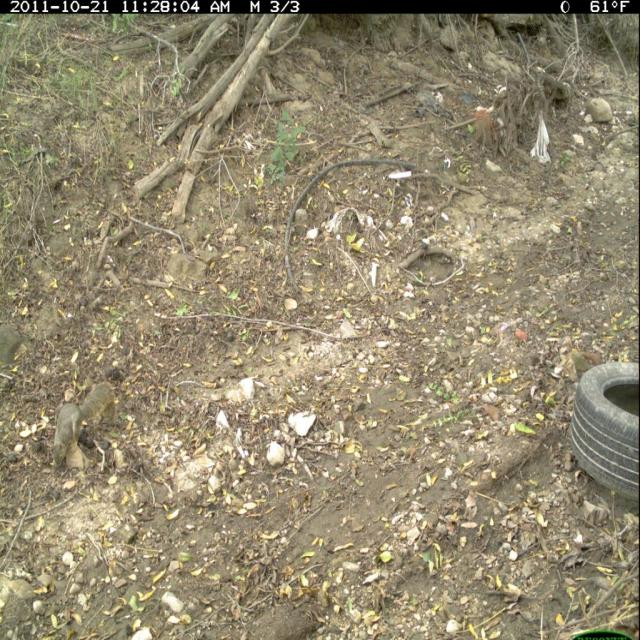squirrel: (50, 382, 119, 473)
